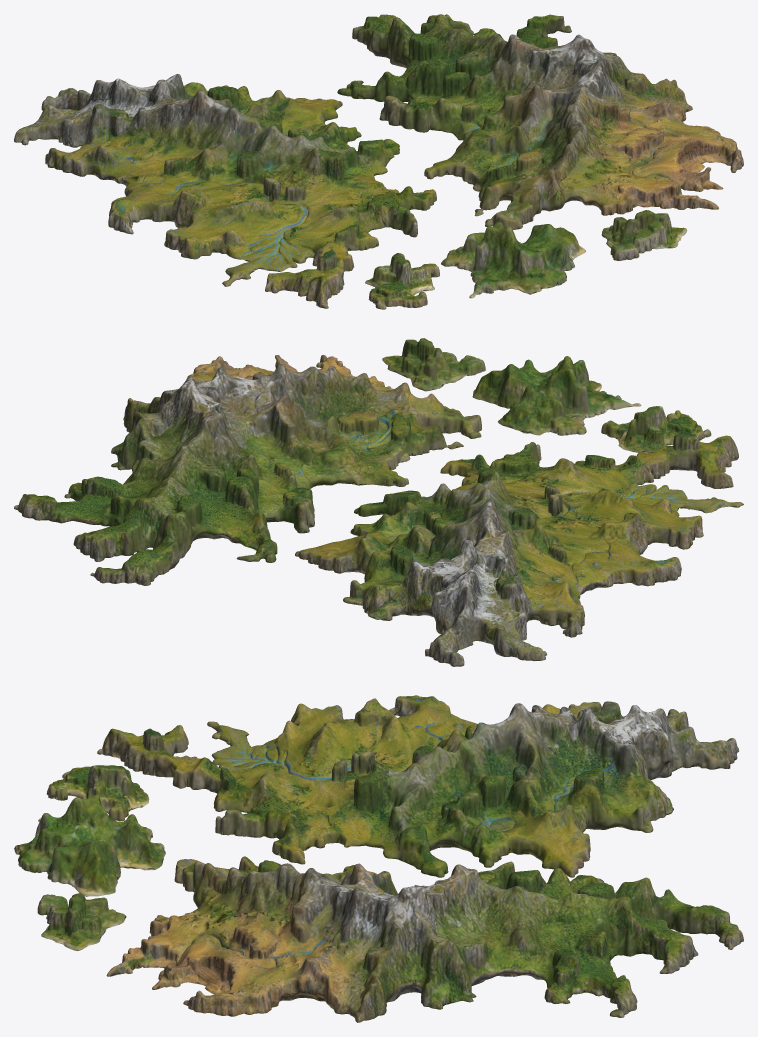
The model's file is world-terrain-web.glb.
3 renders of one model, top to bottom at view 1: azimuth 30°, elevation 25°; view 2: azimuth 150°, elevation 25°; view 3: azimuth 270°, elevation 25°, orthographic. The views are drawn at different scales.
Parts seen in each view (by area): view 1: tripo_node_9681edc8-1d60-45e0-bc77-8c421cb5fe60; view 2: tripo_node_9681edc8-1d60-45e0-bc77-8c421cb5fe60; view 3: tripo_node_9681edc8-1d60-45e0-bc77-8c421cb5fe60.
Part boxes in pixels (x1,y1,x2,y2): tripo_node_9681edc8-1d60-45e0-bc77-8c421cb5fe60: (14,14,743,309); tripo_node_9681edc8-1d60-45e0-bc77-8c421cb5fe60: (14,338,743,666); tripo_node_9681edc8-1d60-45e0-bc77-8c421cb5fe60: (14,695,743,1022).
Size of the model in its own units: 0.9749 by 0.1279 by 0.9563.
1 material, 1 textured.
